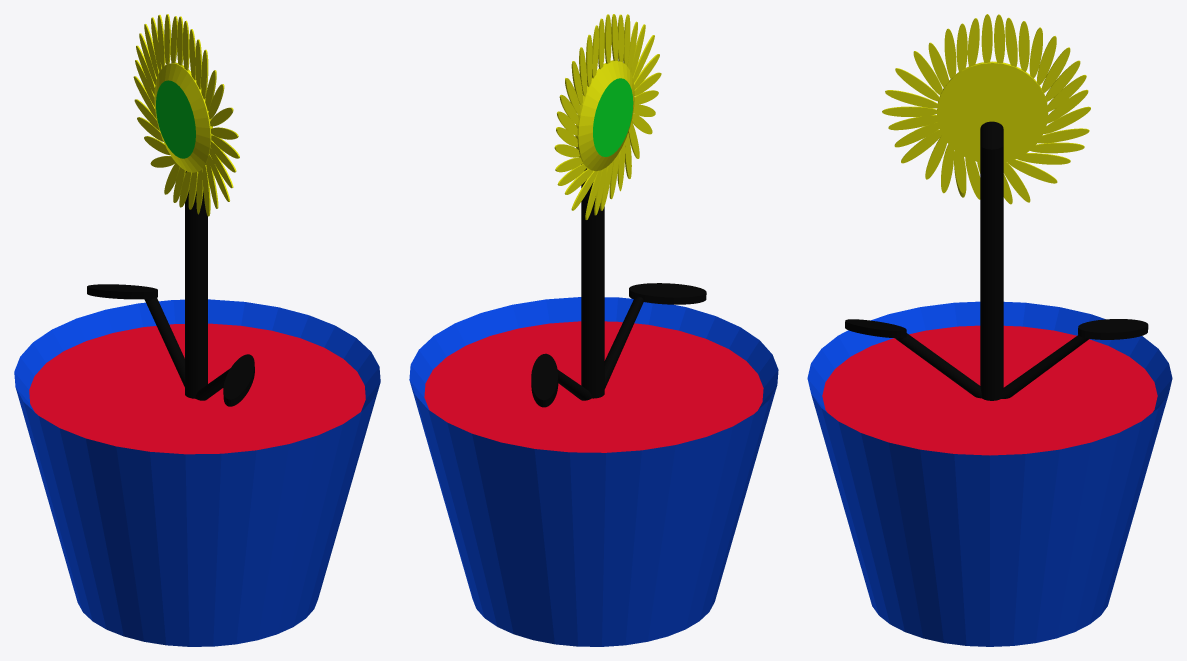
File: Potted_Plant.fbx
The picture shows the model from 3 angles, left to right: view 1: azimuth 30°, elevation 25°; view 2: azimuth 150°, elevation 25°; view 3: azimuth 270°, elevation 25°; orthographic projection.
Visible parts, largest first — view 1: Cylinder; view 2: Cylinder; view 3: Cylinder.
Boxes of the visible parts, x1,y1,x2,y2 form: Cylinder: (14, 14, 380, 646); Cylinder: (409, 14, 778, 646); Cylinder: (807, 14, 1172, 646).
Bounding box in the file's own units: 304 × 529 × 304.
